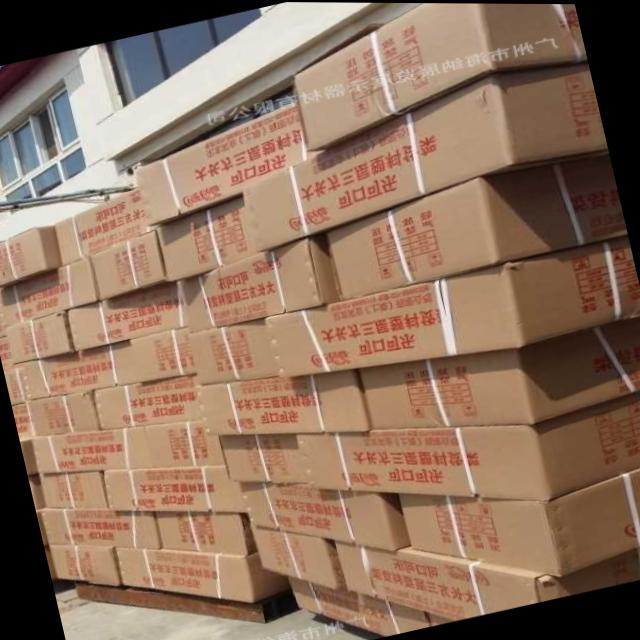box: (240, 62, 606, 253), (264, 236, 640, 377), (290, 2, 588, 150), (326, 153, 628, 299), (295, 390, 640, 500), (357, 314, 640, 430), (401, 467, 640, 575), (334, 539, 640, 619), (135, 101, 322, 225), (182, 230, 341, 331), (238, 481, 407, 549), (197, 367, 366, 435), (114, 547, 290, 602), (287, 575, 433, 637), (155, 195, 257, 282), (68, 280, 190, 351), (52, 189, 151, 265), (15, 340, 137, 401), (0, 255, 97, 328), (102, 464, 245, 512), (94, 372, 204, 430), (251, 524, 347, 590), (187, 318, 277, 384), (32, 426, 150, 473), (89, 231, 166, 300), (38, 508, 157, 548), (154, 511, 256, 554), (219, 433, 305, 482), (144, 419, 225, 468), (127, 325, 194, 382), (4, 310, 75, 363), (0, 225, 60, 287), (27, 390, 100, 435), (47, 544, 123, 584), (38, 471, 107, 509)
